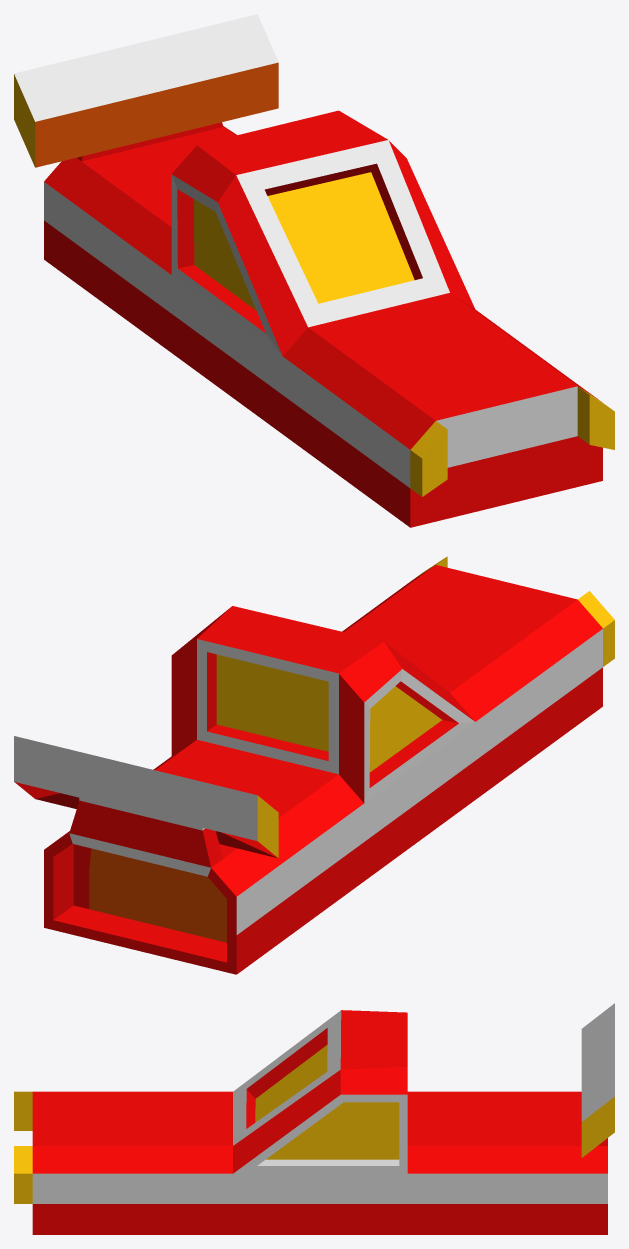
Rendered from  carbody.glb.
3 renders of one model, top to bottom at view 1: azimuth 30°, elevation 25°; view 2: azimuth 150°, elevation 25°; view 3: azimuth 270°, elevation 25°, orthographic. The views are drawn at different scales.
Parts seen in each view (by area): view 1: Cube; view 2: Cube; view 3: Cube.
Part boxes in pixels (bbox=[...]): Cube: bbox=[14, 14, 614, 527]; Cube: bbox=[14, 556, 614, 974]; Cube: bbox=[14, 1003, 614, 1234].
Size of the model in its own units: 2.53 by 2.02 by 6.88.
